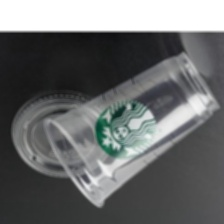glass: (40, 47, 223, 212)
